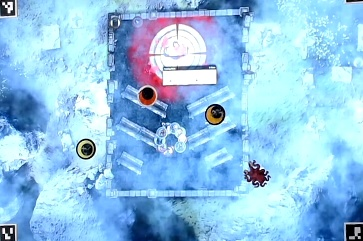giant_red_octopus: (242, 159, 274, 190)
lime_green_violet: (76, 139, 98, 162)
orange: (136, 84, 159, 107)
yellow_night_blue: (204, 103, 227, 126)
